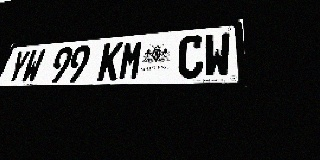9: (47, 46, 75, 83), (65, 45, 92, 82)
C: (177, 35, 204, 79)
K: (97, 42, 124, 81)
M: (117, 40, 144, 81)
W: (203, 32, 231, 78), (19, 49, 46, 83)
Y: (5, 50, 31, 84)
